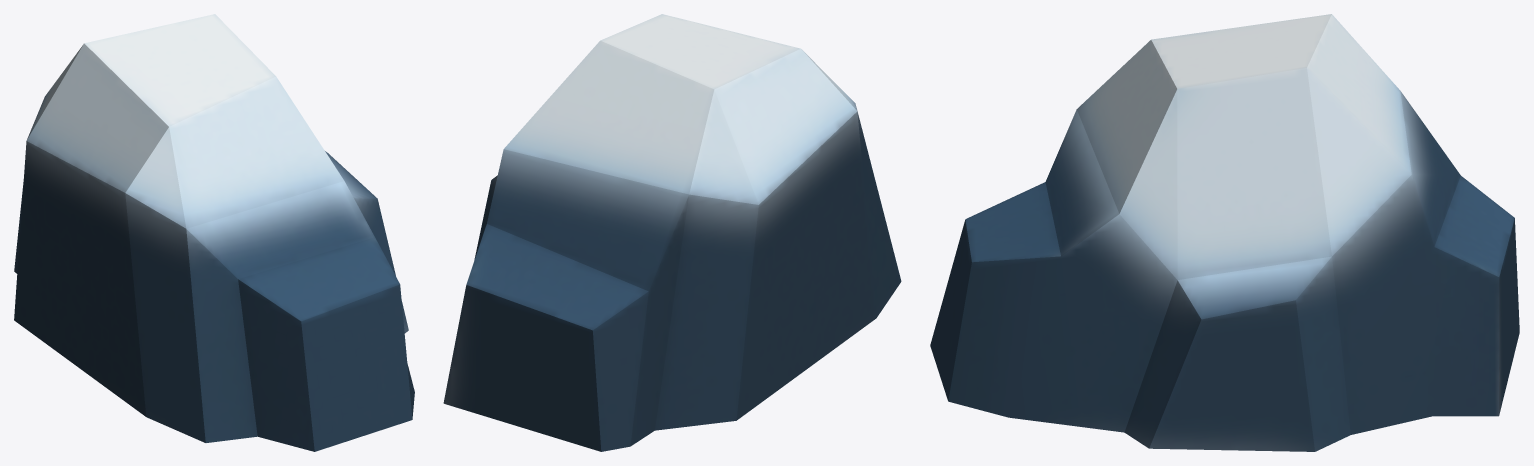
File: Rock_4.fbx
The picture shows the model from 3 angles, left to right: view 1: azimuth 30°, elevation 25°; view 2: azimuth 150°, elevation 25°; view 3: azimuth 270°, elevation 25°; orthographic projection. The views are drawn at different scales.
Visible parts, largest first — view 1: Rock_4; view 2: Rock_4; view 3: Rock_4.
Part boxes in pixels (<box>): Rock_4: <box>14,14,414,451</box>; Rock_4: <box>443,14,901,451</box>; Rock_4: <box>930,14,1519,451</box>.
Size of the model in its own units: 0.7436 by 0.7015 by 1.18.
